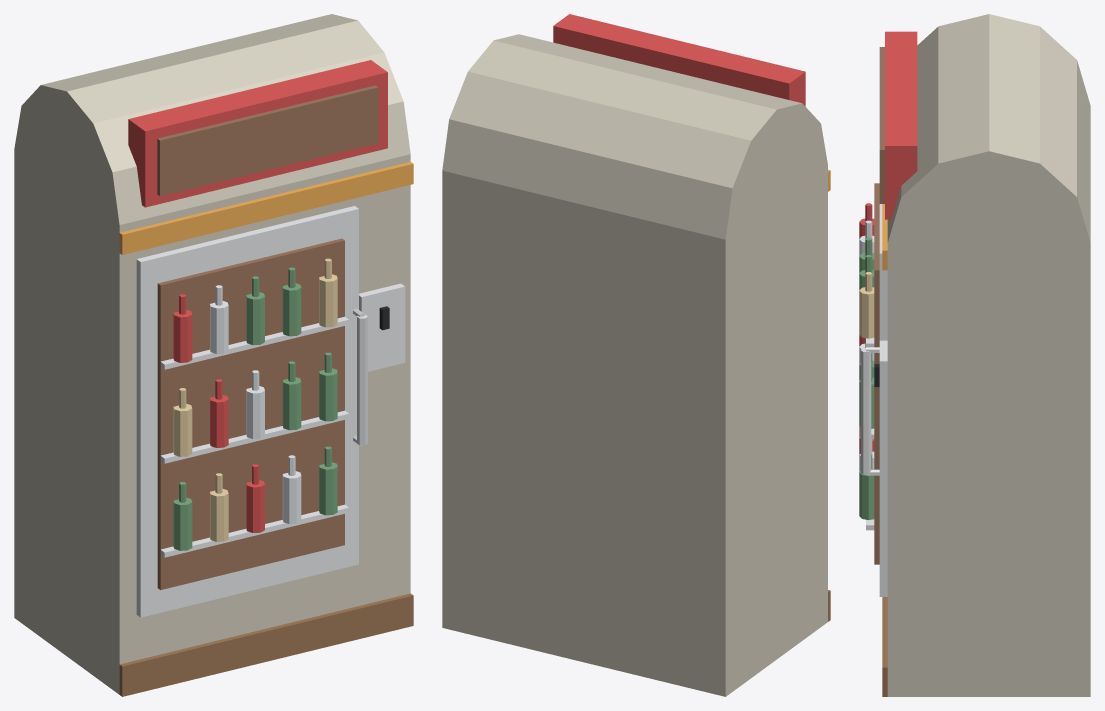
Rendered from HJ_Minibar.fbx.
The picture shows the model from 3 angles, left to right: view 1: azimuth 30°, elevation 25°; view 2: azimuth 150°, elevation 25°; view 3: azimuth 270°, elevation 25°; orthographic projection. The views are drawn at different scales.
Parts seen in each view (by area): view 1: HJ_Minibar; view 2: HJ_Minibar; view 3: HJ_Minibar.
Part boxes in pixels (x1,y1,x2,y2): HJ_Minibar: (14,14,413,696); HJ_Minibar: (442,14,830,696); HJ_Minibar: (859,14,1090,696).
Size of the model in its own units: 1.2 by 2.23 by 0.855.
